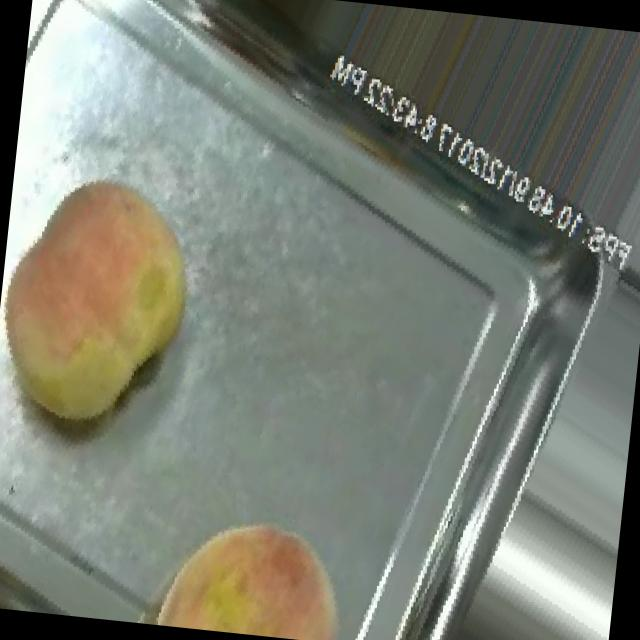Fruit: (0, 141, 244, 471), (129, 475, 383, 640)
